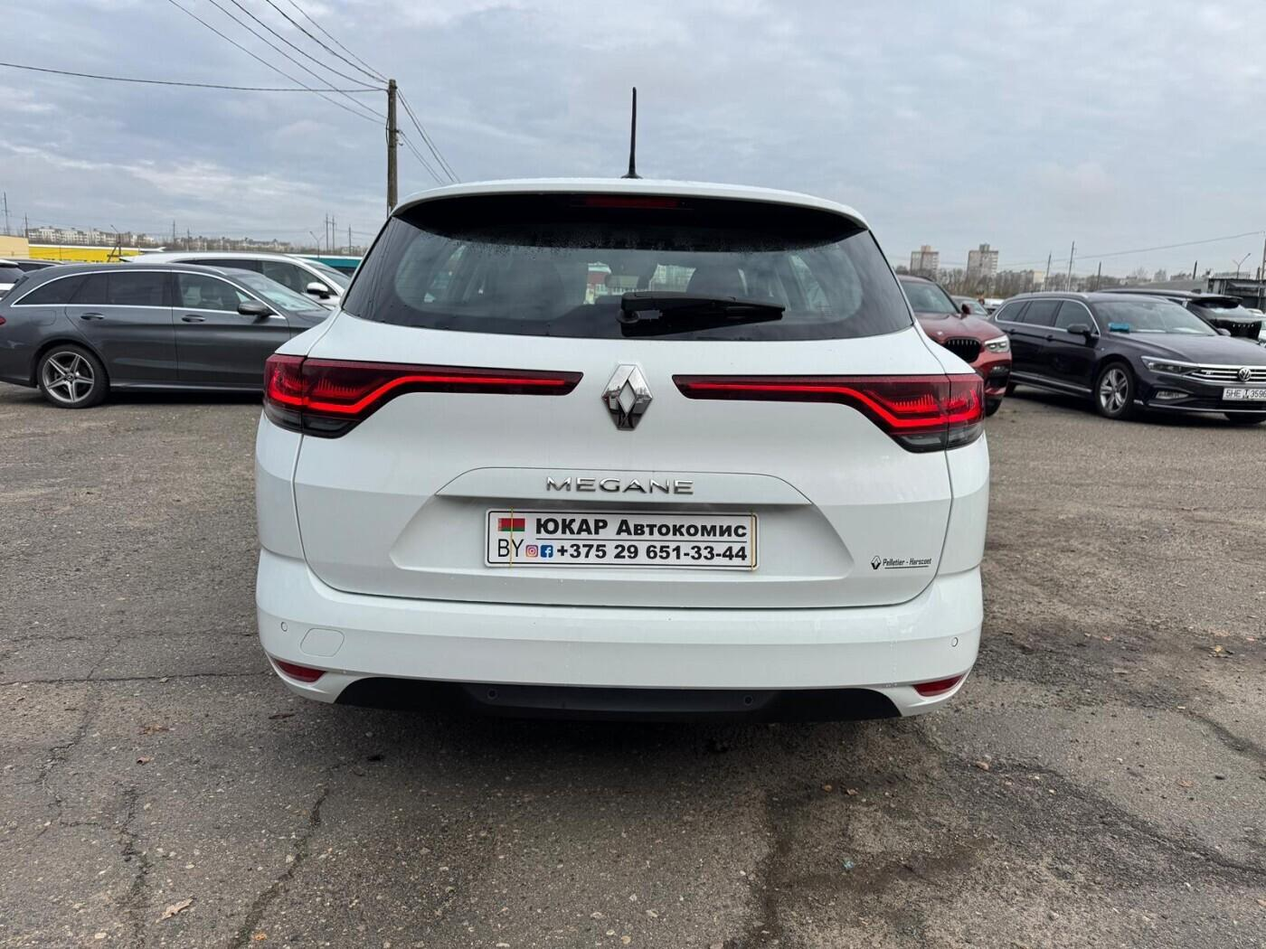Megane_2020: (247, 172, 995, 735)
